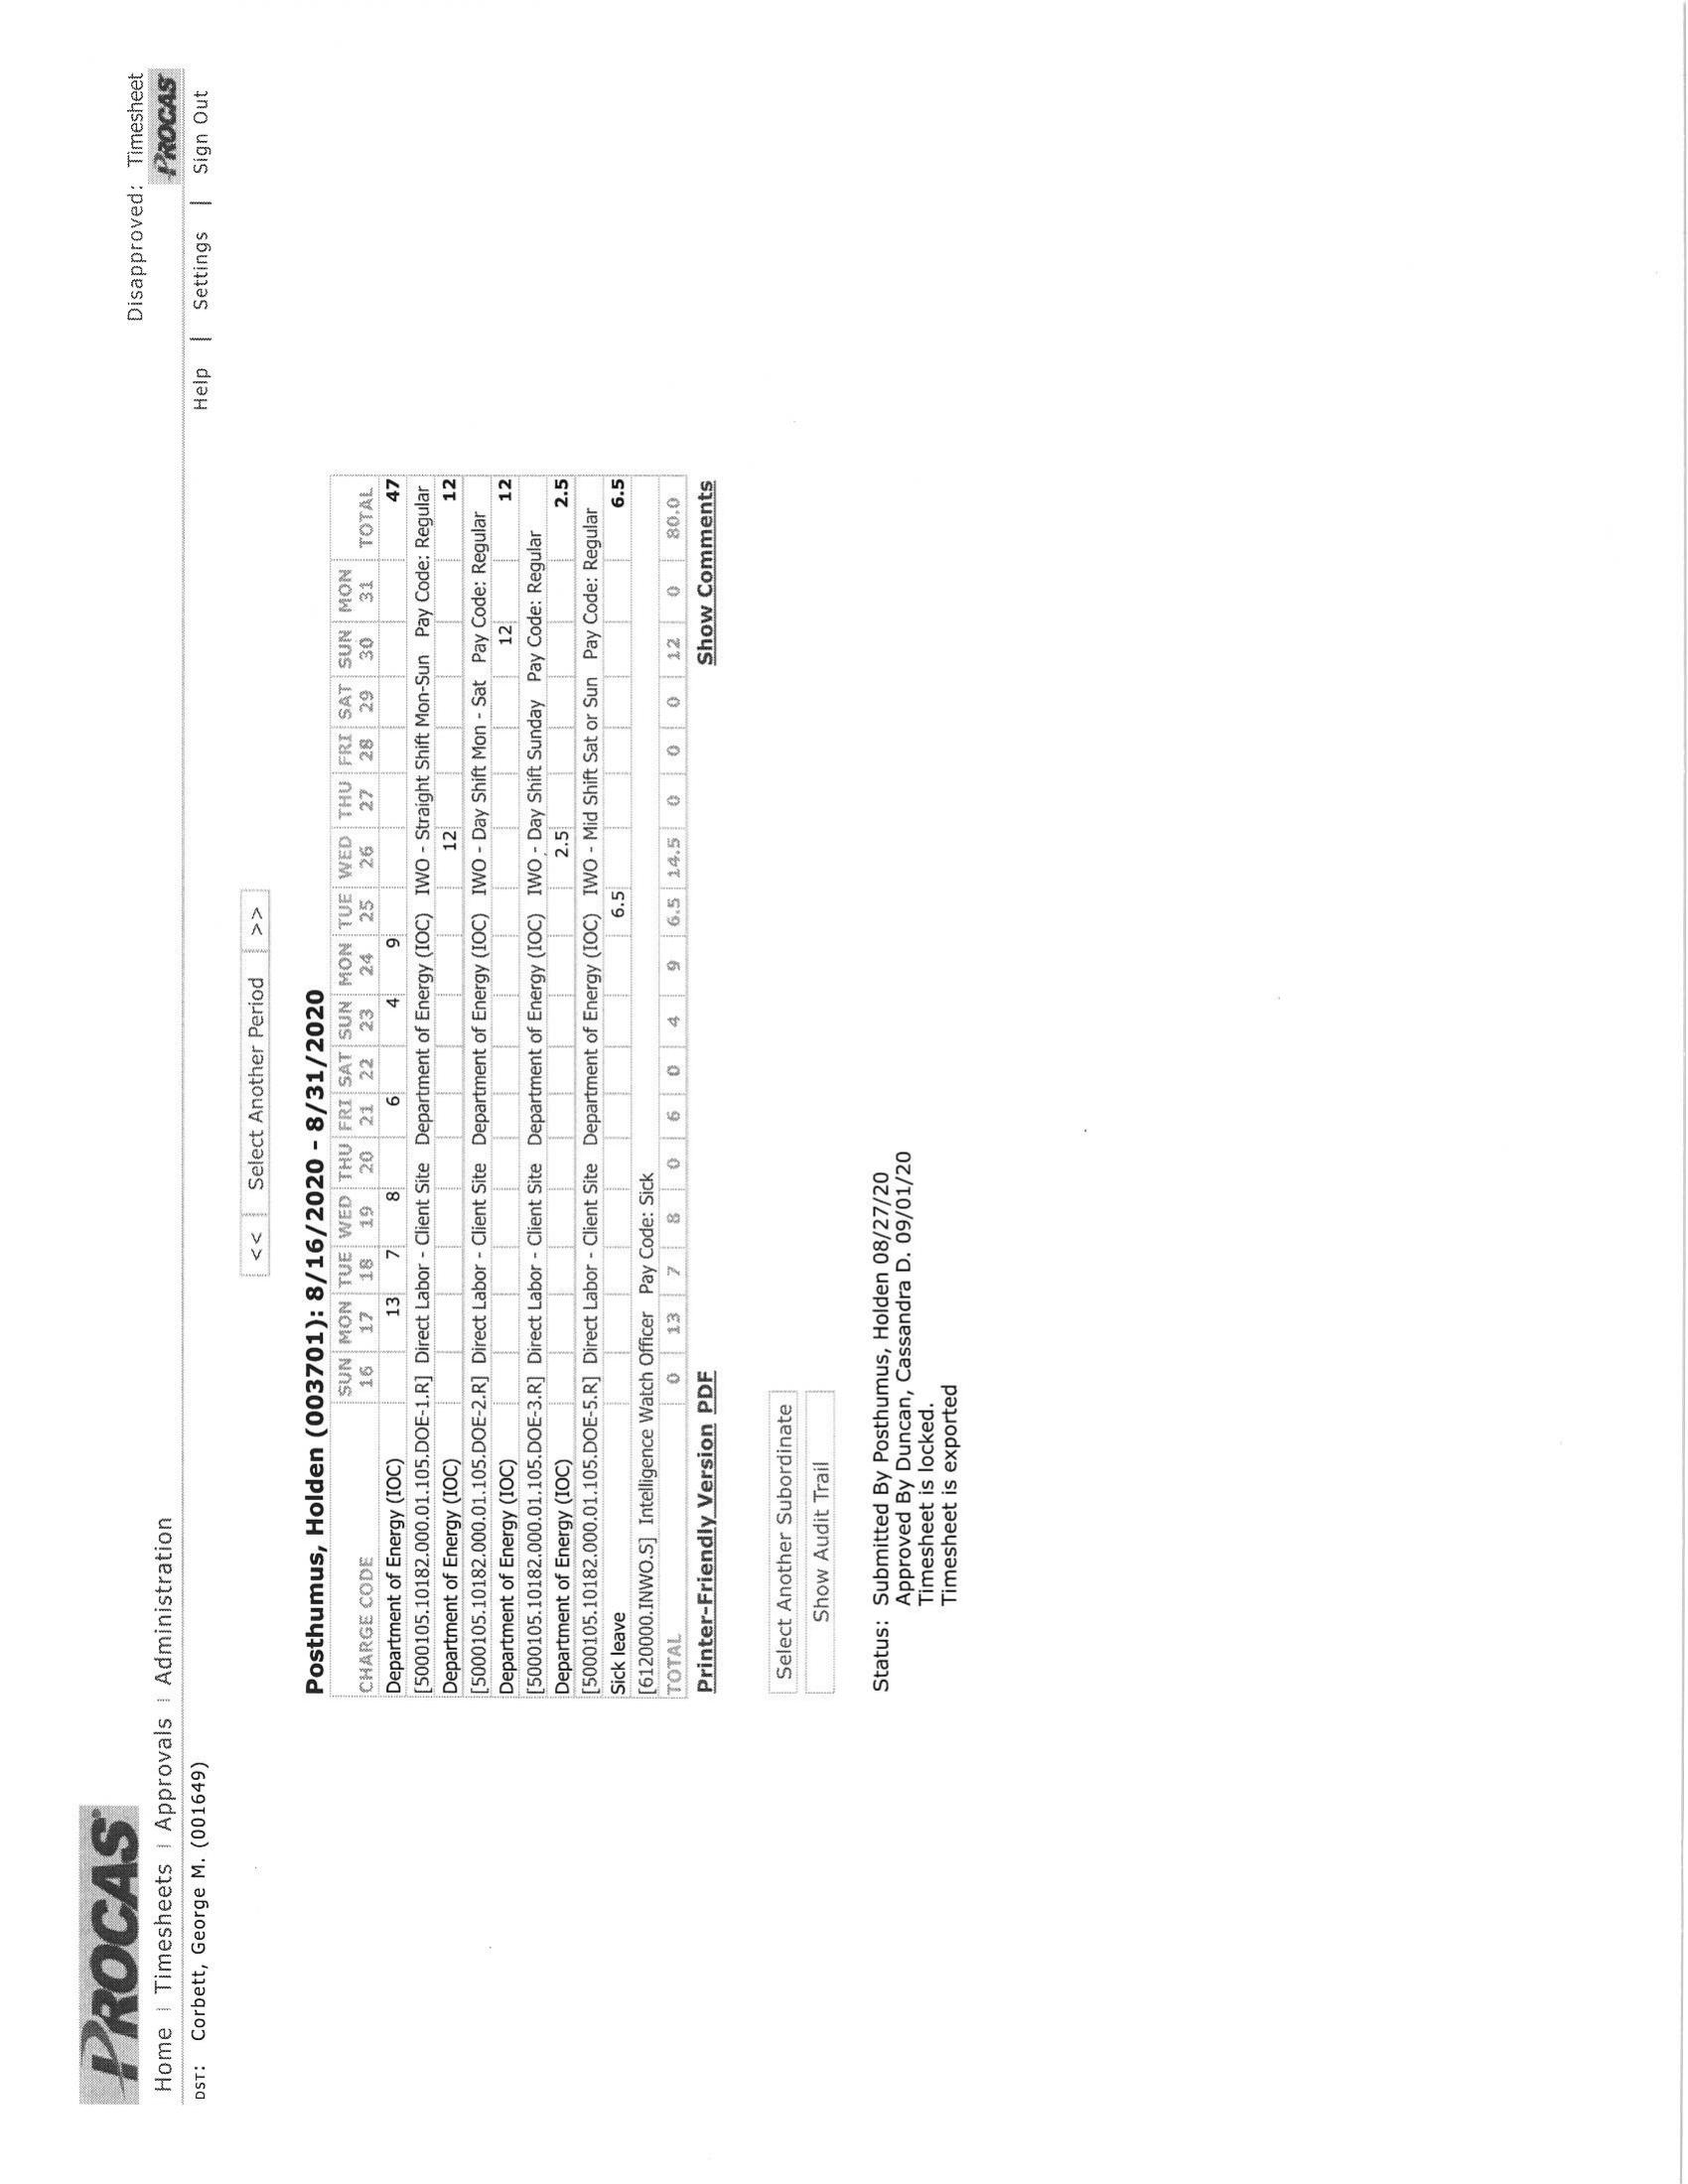table: (326, 470, 688, 1700)
